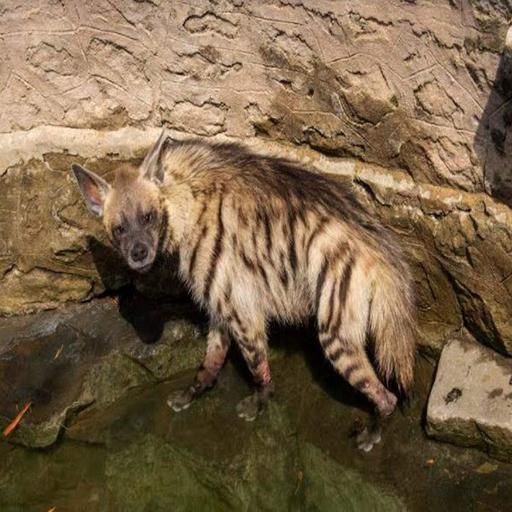Hyena: (71, 130, 512, 448)
